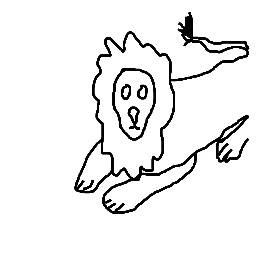lion: (1, 1, 255, 255)
